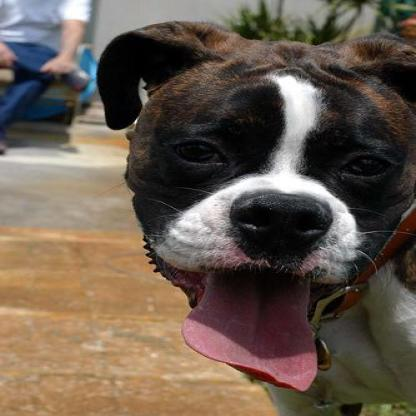boxer: (92, 12, 413, 414)
